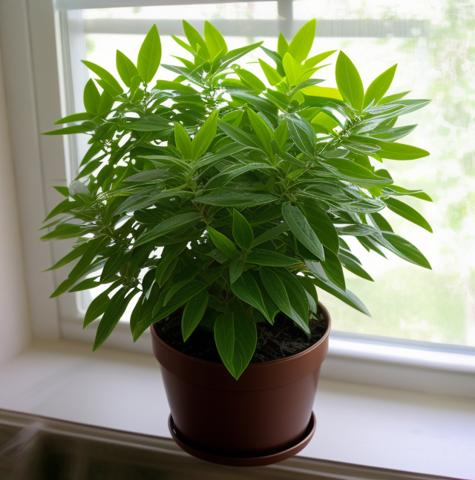pottedplant: (36, 20, 430, 474)
